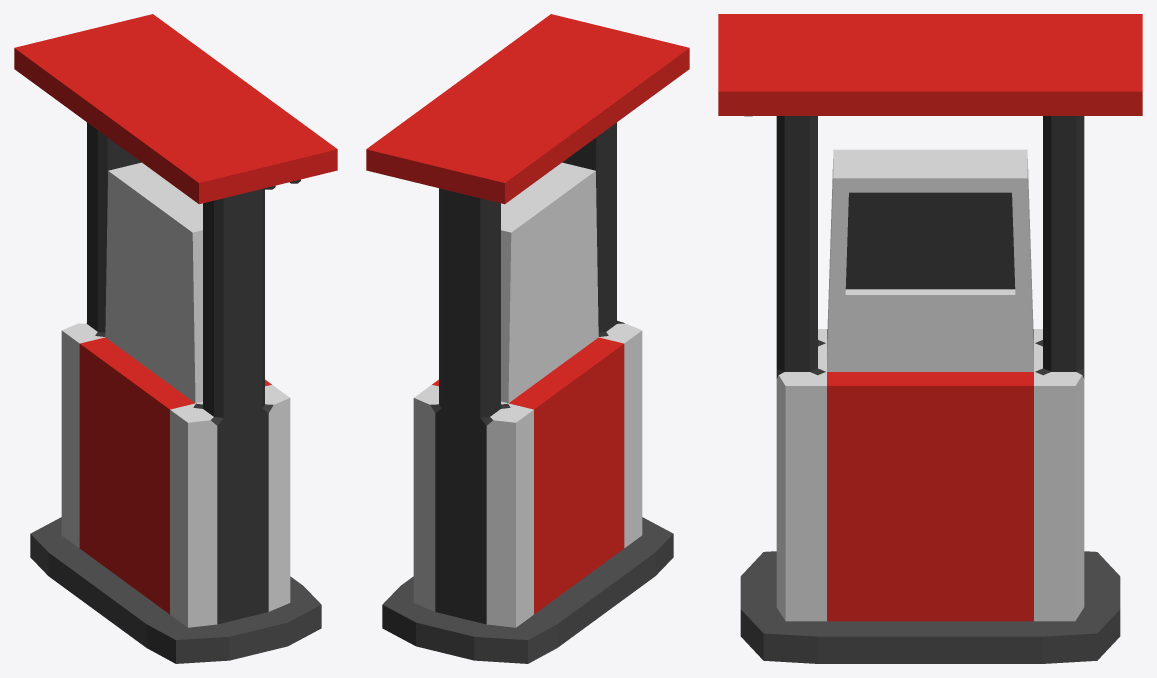
The model's file is gas_pump.glb.
3 renders of one model, left to right at view 1: azimuth 30°, elevation 25°; view 2: azimuth 150°, elevation 25°; view 3: azimuth 270°, elevation 25°, orthographic. The views are drawn at different scales.
Parts seen in each view (by area): view 1: Cube; view 2: Cube; view 3: Cube.
Boxes of the visible parts, box(x1,y1,x2,y2) form: Cube: box(14, 14, 337, 663); Cube: box(366, 14, 689, 663); Cube: box(718, 14, 1142, 663).
Size of the model in its own units: 1.44 by 4.32 by 2.93.
